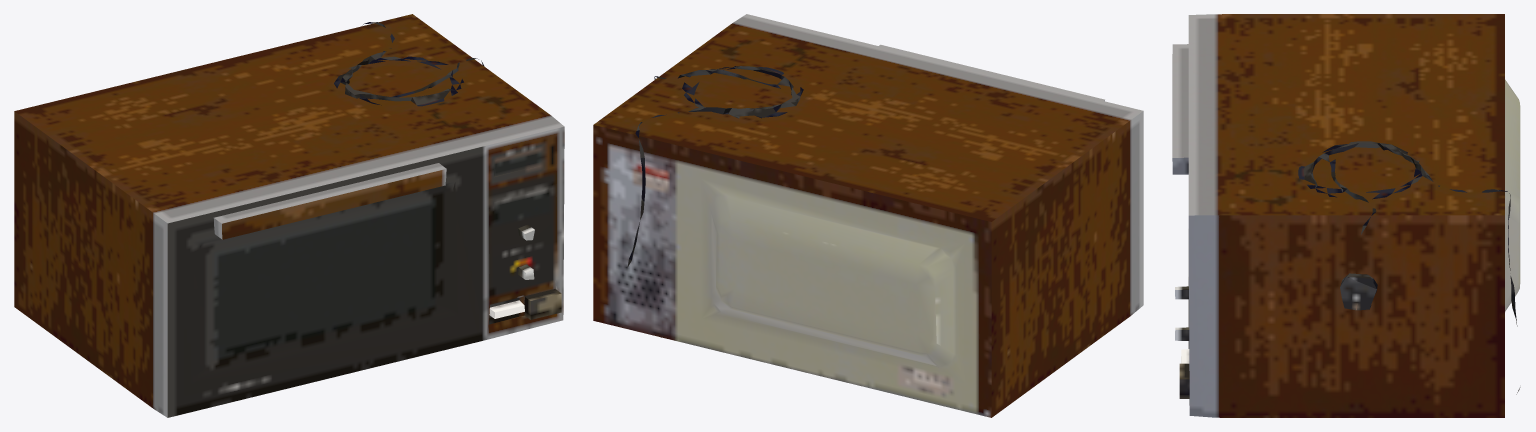
File: vintage_microwave.glb
The picture shows the model from 3 angles, left to right: view 1: azimuth 30°, elevation 25°; view 2: azimuth 150°, elevation 25°; view 3: azimuth 270°, elevation 25°; orthographic projection. The views are drawn at different scales.
Parts seen in each view (by area): view 1: mesh; view 2: mesh; view 3: mesh.
Boxes of the visible parts, bbox=[...] form: mesh: bbox=[14, 14, 564, 417]; mesh: bbox=[593, 14, 1143, 417]; mesh: bbox=[1172, 14, 1520, 417].
Size of the model in its own units: 1.08 by 0.5258 by 0.7434.
1 material, 1 textured.
